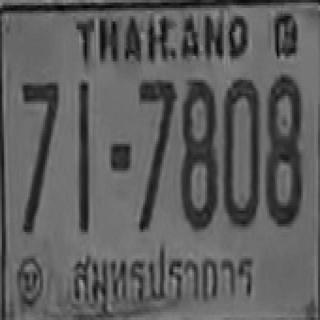N00: (222, 77, 258, 224)
N01: (69, 76, 101, 244)
N07: (137, 77, 175, 227), (21, 80, 58, 227), (21, 80, 58, 208), (137, 77, 175, 184), (21, 80, 58, 173)
N08: (178, 77, 216, 227), (263, 75, 301, 224)
P57: (67, 240, 262, 317)
